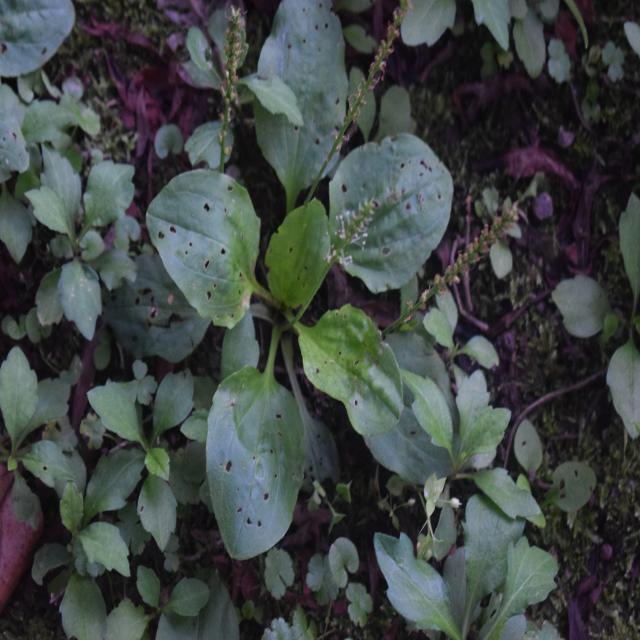plantain: (156, 41, 439, 486)
